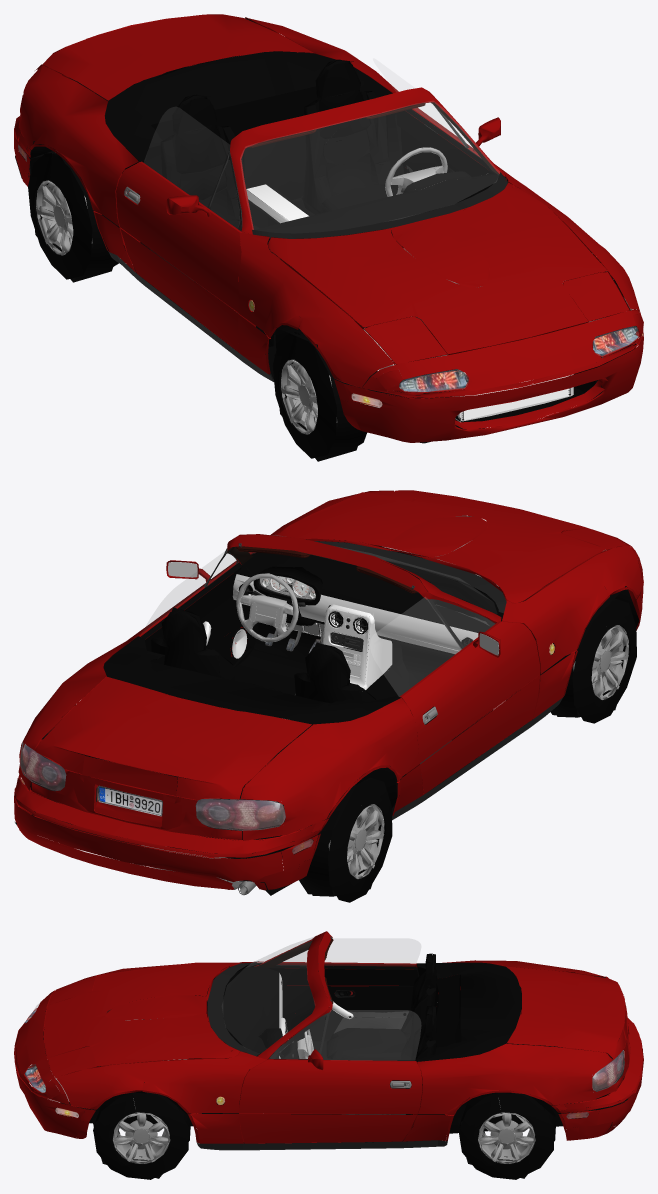
3 renders of one model, top to bottom at view 1: azimuth 30°, elevation 25°; view 2: azimuth 150°, elevation 25°; view 3: azimuth 270°, elevation 25°, orthographic. The views are drawn at different scales.
Parts seen in each view (by area): view 1: body, wheel_0, wheel_2; view 2: body, wheel_2, wheel_0; view 3: body, wheel_1, wheel_3.
Part boxes in pixels (<box>): body: <box>14,14,643,443</box>; wheel_0: <box>238,300,382,461</box>; wheel_2: <box>18,141,118,282</box>; body: <box>14,490,643,895</box>; wheel_2: <box>292,768,397,902</box>; wheel_0: <box>533,581,643,723</box>; body: <box>14,931,643,1150</box>; wheel_1: <box>55,1061,243,1179</box>; wheel_3: <box>457,1092,588,1179</box>.
Bounding box in the file's own units: 1.8 × 1.16 × 3.95.
Materials: 52 (9 with a texture image).
